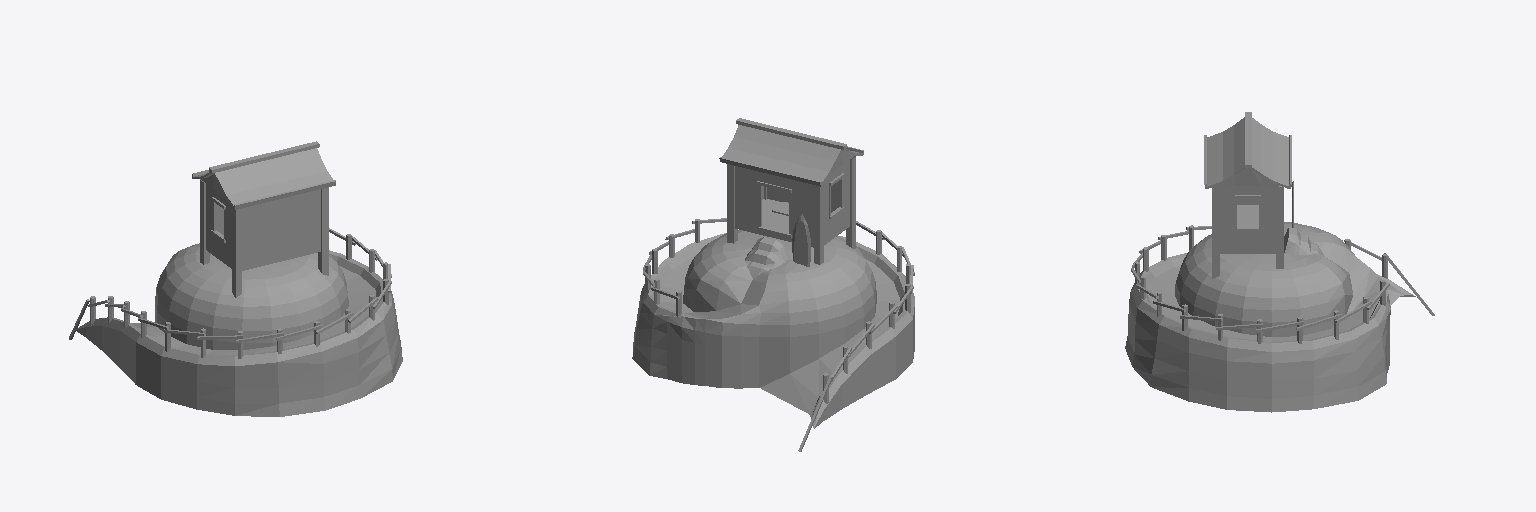
File: hut_hill.obj
The picture shows the model from 3 angles: view 1: azimuth 30°, elevation 25°; view 2: azimuth 150°, elevation 25°; view 3: azimuth 270°, elevation 25°; orthographic projection.
Parts seen in each view (by area): view 1: pSphere1, pCube1, polySurface2; view 2: pSphere1, pCube1, polySurface2, pCube12, pCube5; view 3: pSphere1, polySurface2, pCube1, pCube12.
Boxes of the visible parts, x1,y1,x2,y2 form: pSphere1: [75, 243, 402, 416]; pCube1: [200, 179, 328, 297]; polySurface2: [192, 141, 335, 209]; pSphere1: [632, 230, 914, 428]; pCube1: [727, 156, 855, 264]; polySurface2: [719, 118, 863, 186]; pCube12: [745, 237, 789, 278]; pCube5: [792, 214, 810, 266]; pSphere1: [1125, 222, 1415, 412]; polySurface2: [1204, 112, 1291, 188]; pCube1: [1212, 186, 1283, 278]; pCube12: [1284, 227, 1324, 256].
Bounding box in the file's own units: 16.29 × 14.31 × 17.65.